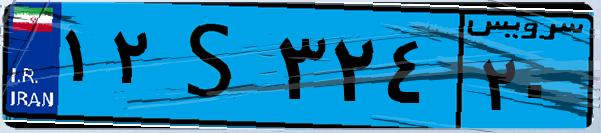0: (525, 38, 570, 115)
1: (57, 26, 110, 100)
2: (330, 28, 385, 110), (475, 38, 525, 113), (110, 28, 158, 98)
3: (270, 28, 330, 110)
4: (385, 28, 445, 110)
S: (158, 12, 270, 120)
